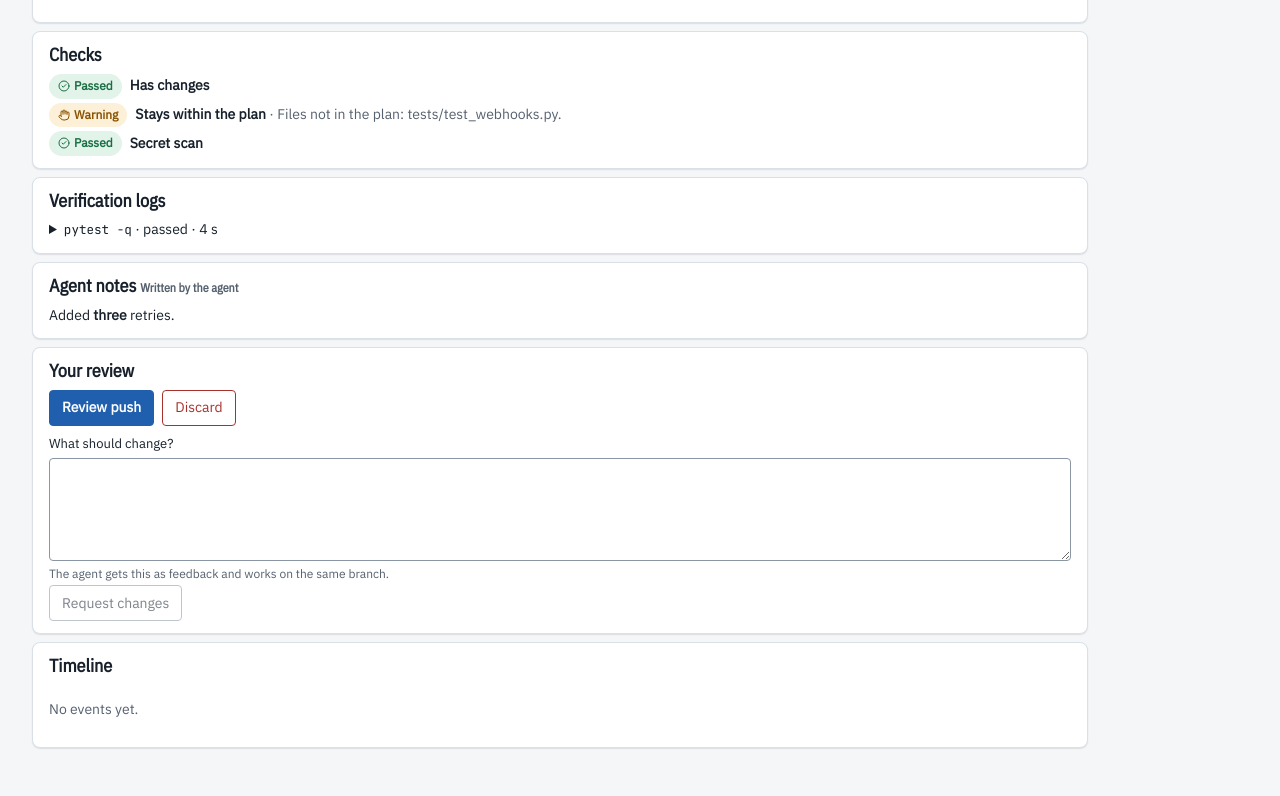
Push review › shows the exact payload, lets the texts be edited and approves it
This screenshot has width=1280, height=796.
Later steps or results of the test are not shown.
(page scrolled)
Click the button "Review push" at (102, 408), box [49,390,154,426]
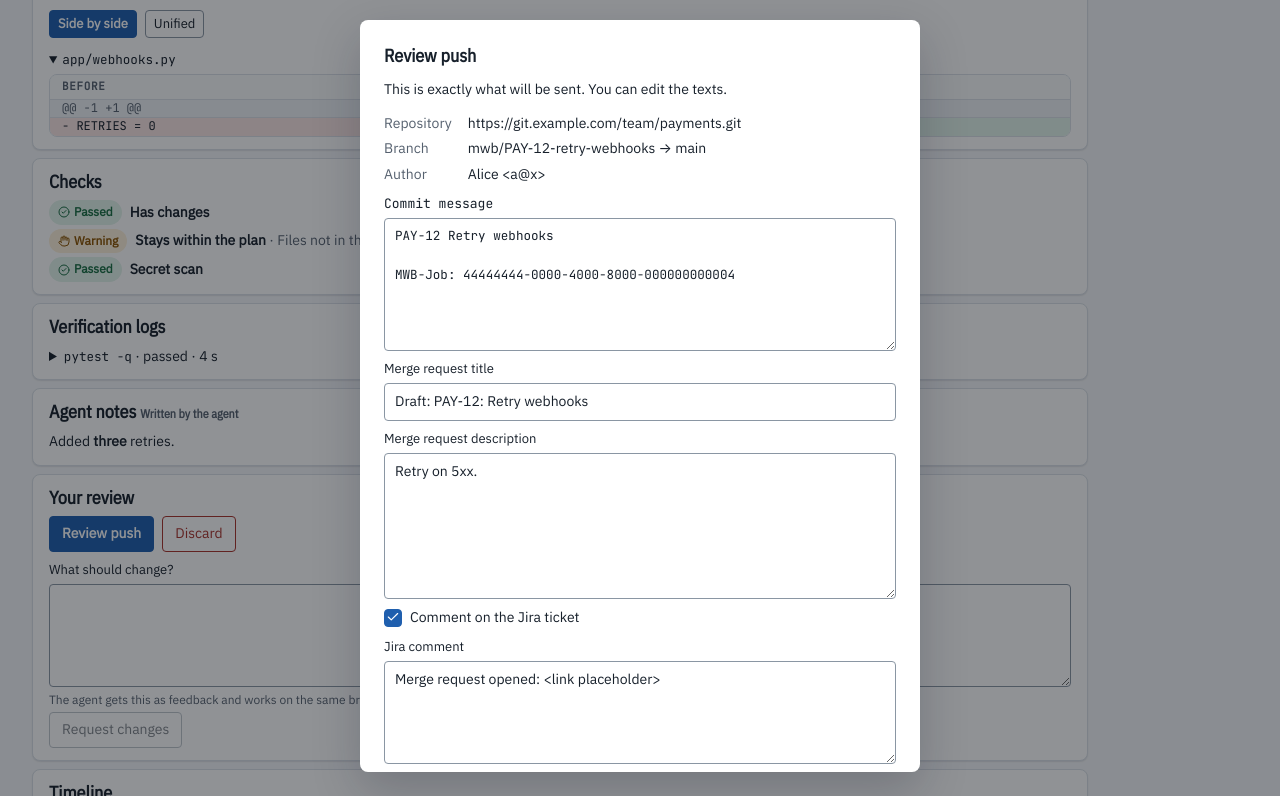
Expected: the text "mwb/PAY-12-retry-webhooks → main" is shown, [468,139,706,157]
Replace the text in the field labelled "Merge request title" with "Draft: PAY-12: Retry (edited)" at (640, 402), box [384,383,896,421]
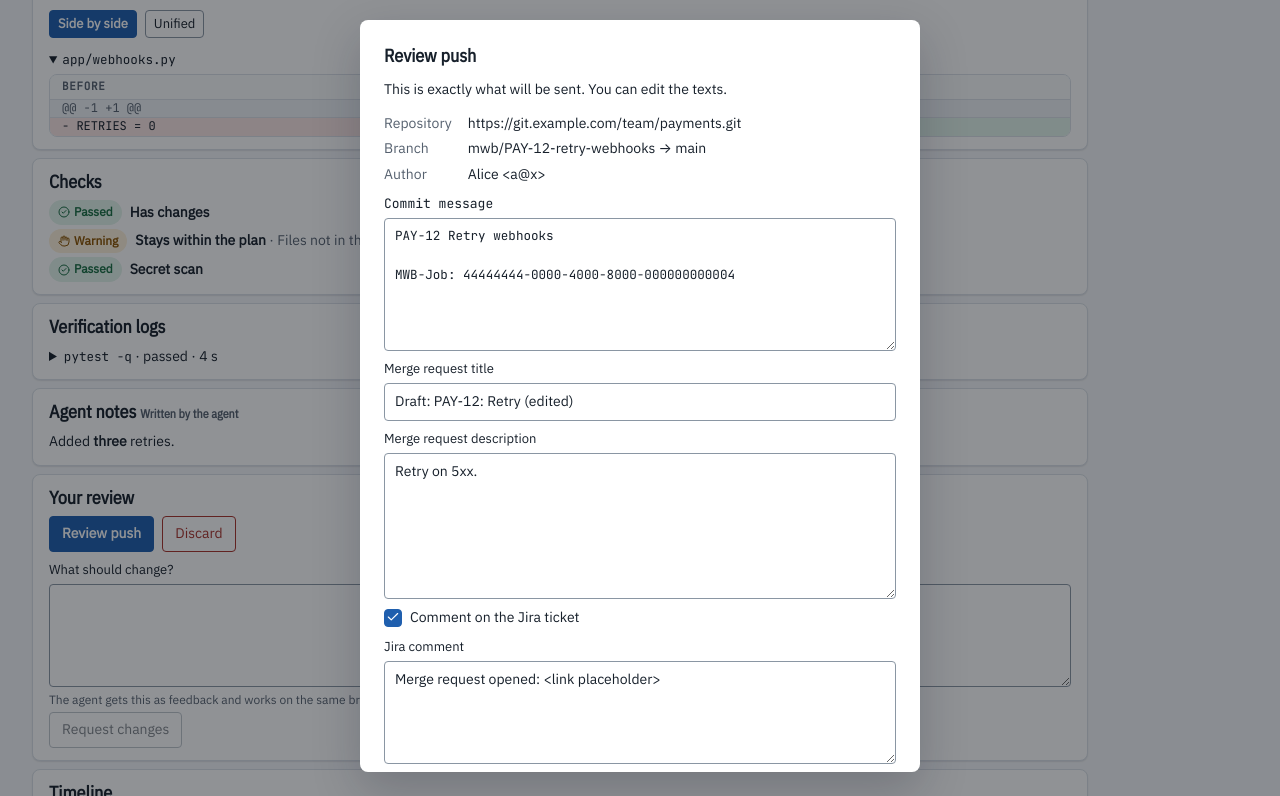
Click the checkbox named "Comment on the Jira ticket" at (393, 618), box [384,609,402,627]
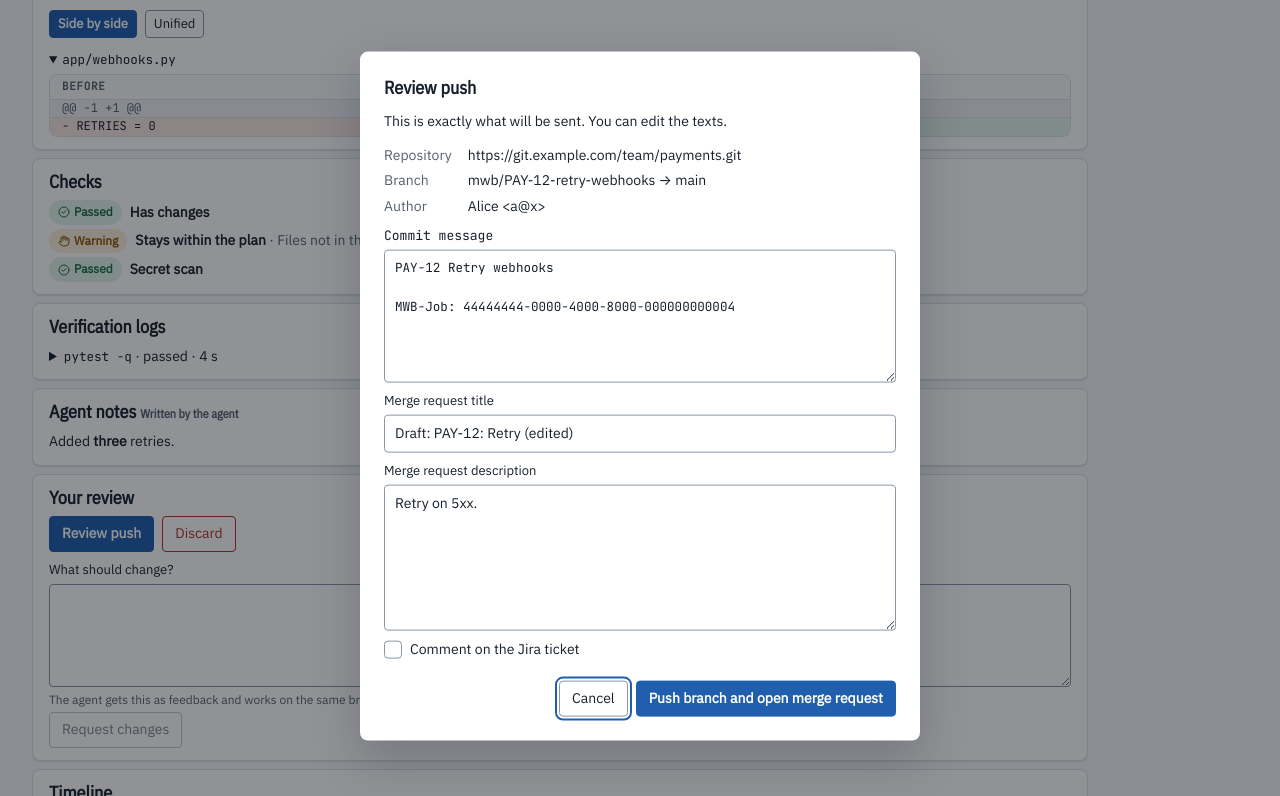
Expected: the label labelled "Jira comment" is gone
